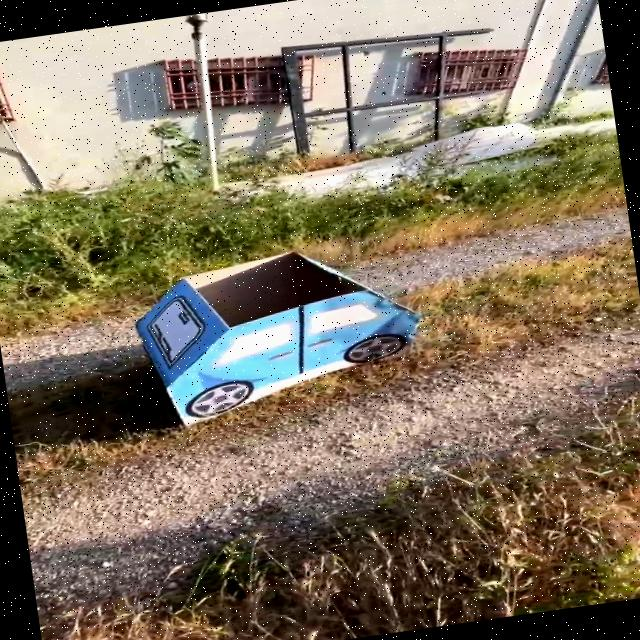blue_car: (81, 213, 455, 447)
